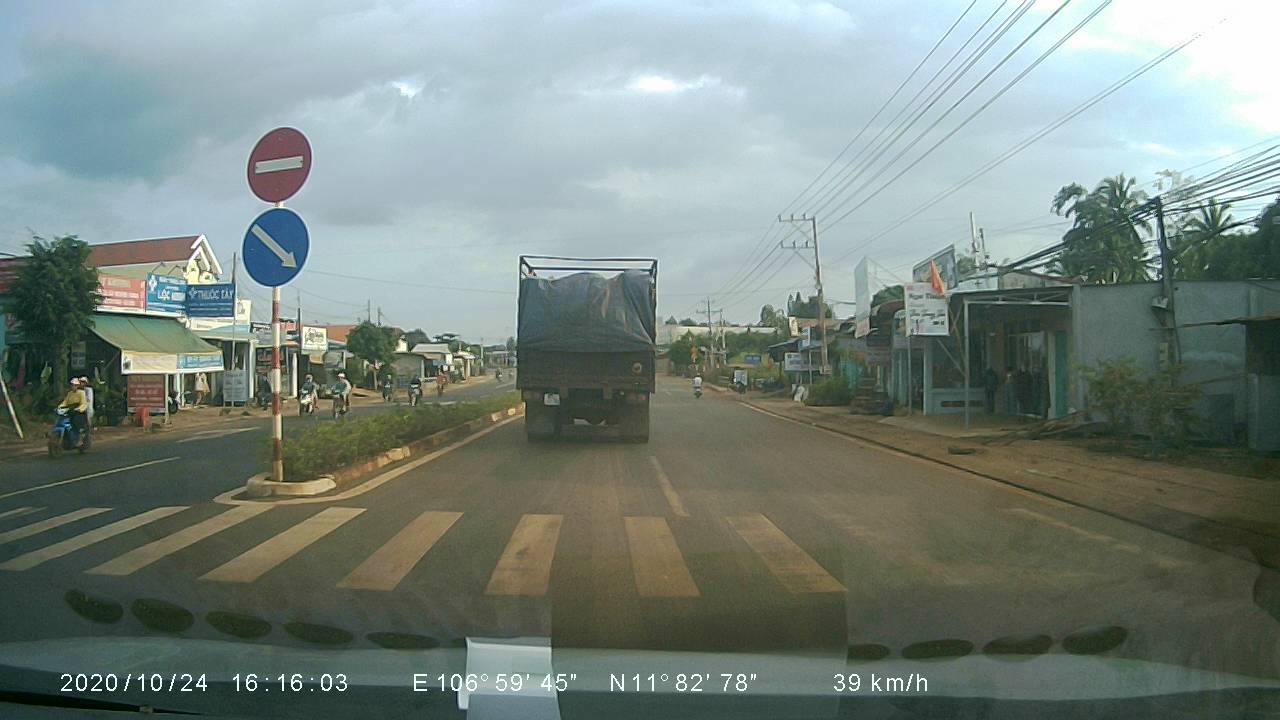Cam di nguoc chieu: (242, 123, 314, 202)
Huong di phai re phai: (238, 207, 313, 288)
